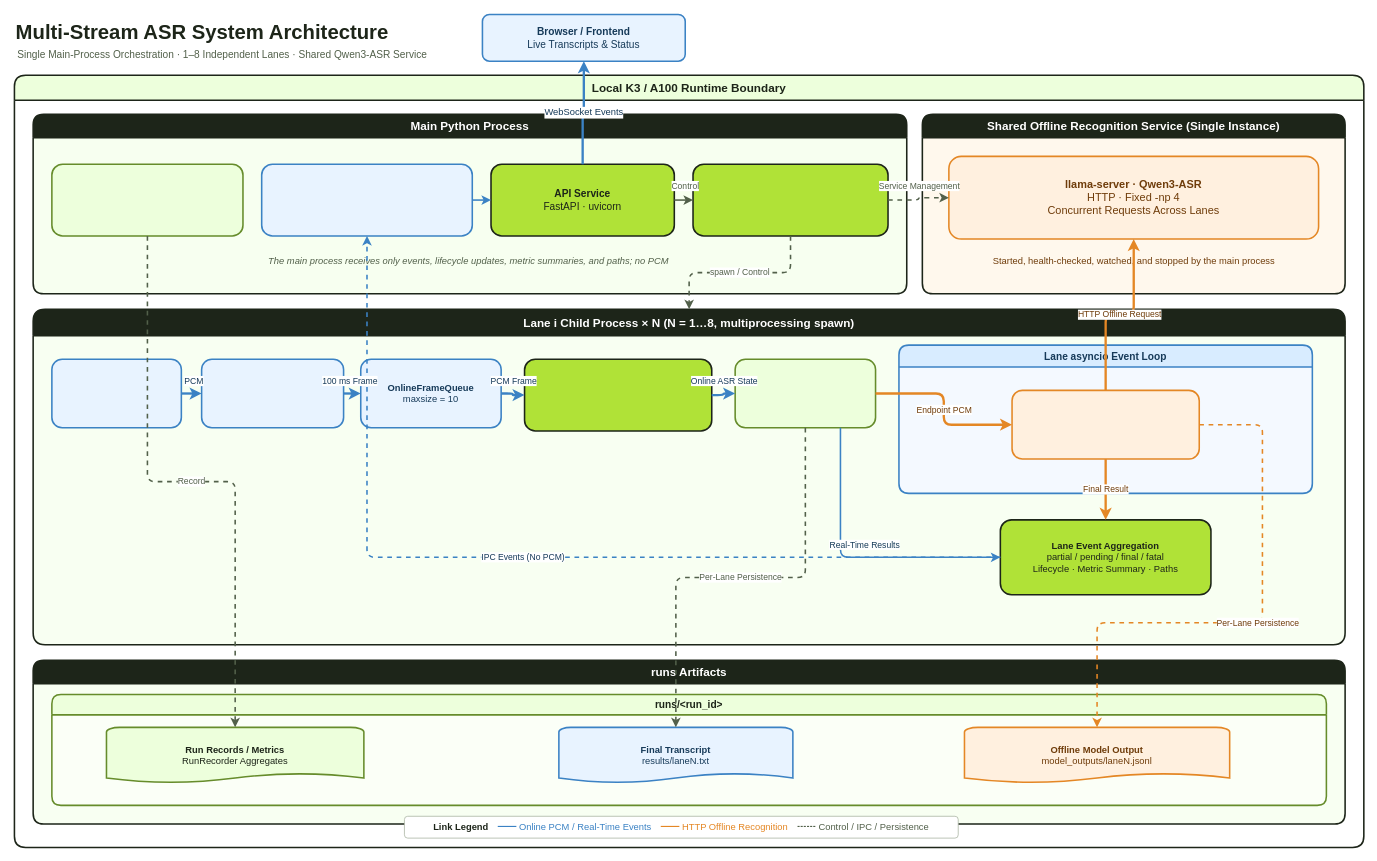
Image size: 1377x861. Some labels were removed from this diagram. Each missing label, with the centre of its shape:
"Audio Producer Thread One 100 ms Frame" goes at point 272,393.
"Audio Source Local WAV / Microphone PortAudio" goes at point 116,393.
"FrontendEventBus partial · pending · final · fatal" goes at point 367,199.
"Persistent Zipformer Consumer Thread sherpa-onnx + SpaceMiT EP A100 CPU Compute" goes at point 617,394.
"ProcessPipelineManager Lane Orchestration & Lifecycle" goes at point 790,199.
"Qwen3AsrClient Serial Utterances per Lane" goes at point 1105,424.
"RunRecorder / Metrics Run Records & Metrics Aggregation" goes at point 147,199.
"SegmentCache Utterance Buffer & State" goes at point 805,393.
